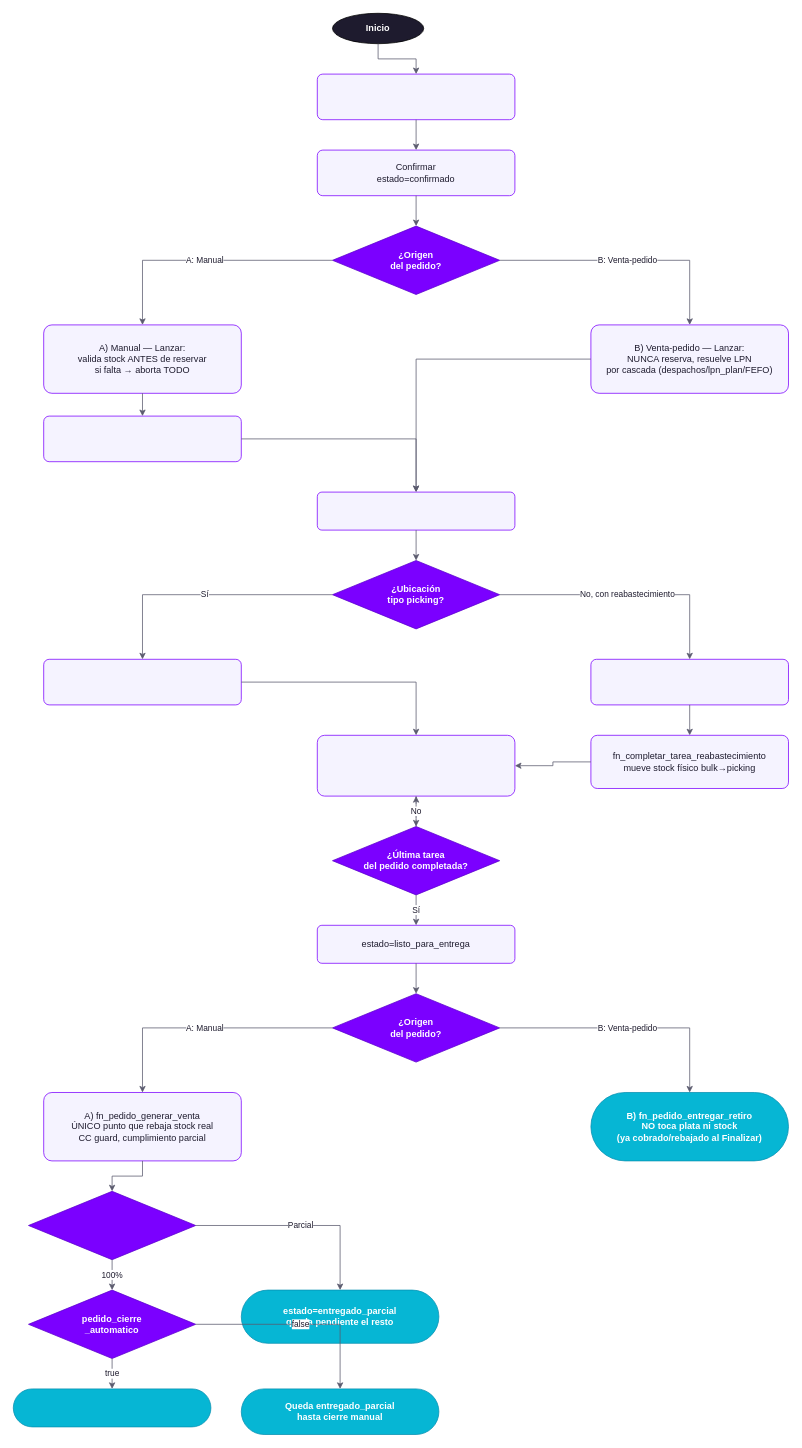
Some shapes in this 802 by 1448 pixel diagram are drawn without their labels. Here are the shapes that lost their labels. From the top down, the centre of each, then its label:
At (416,96): "Crear pedido estado=borrador".
At (142,438): "Reserva real FEFO cantidad_reservada+=".
At (416,510): "estado=en_preparacion".
At (142,682): "Tarea picking directa".
At (689,682): "Tarea replenishment + picking encadenada".
At (416,765): "Operario completa tarea fn_completar_tarea_picking (solo bookkeeping)".
At (112,1225): "¿Entrega 100% o parcial?".
At (112,1407): "estado=entregado".
